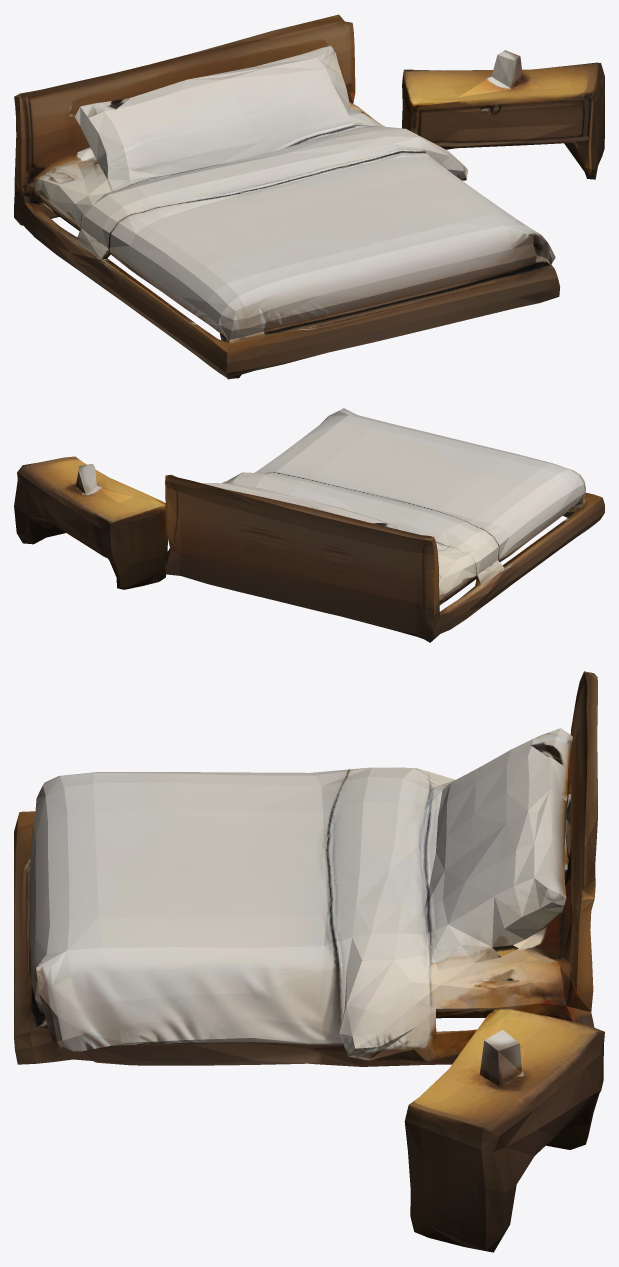
File: Motel Bed.glb
3 views of the same model, one above another, from view 1: azimuth 30°, elevation 25°; view 2: azimuth 150°, elevation 25°; view 3: azimuth 270°, elevation 25° (orthographic). The views are drawn at different scales.
Visible parts, largest first — view 1: tripo_node_985a480a-88e4-4125-a13c-1f985e282bf2; view 2: tripo_node_985a480a-88e4-4125-a13c-1f985e282bf2; view 3: tripo_node_985a480a-88e4-4125-a13c-1f985e282bf2.
Part boxes in pixels (left/top/right/bottom): tripo_node_985a480a-88e4-4125-a13c-1f985e282bf2: left=14, top=14, right=604, bottom=379; tripo_node_985a480a-88e4-4125-a13c-1f985e282bf2: left=14, top=408, right=604, bottom=642; tripo_node_985a480a-88e4-4125-a13c-1f985e282bf2: left=14, top=671, right=604, bottom=1252.
Size of the model in its own units: 0.9891 by 0.2802 by 0.6692.
Materials: 1 (1 with a texture image).
